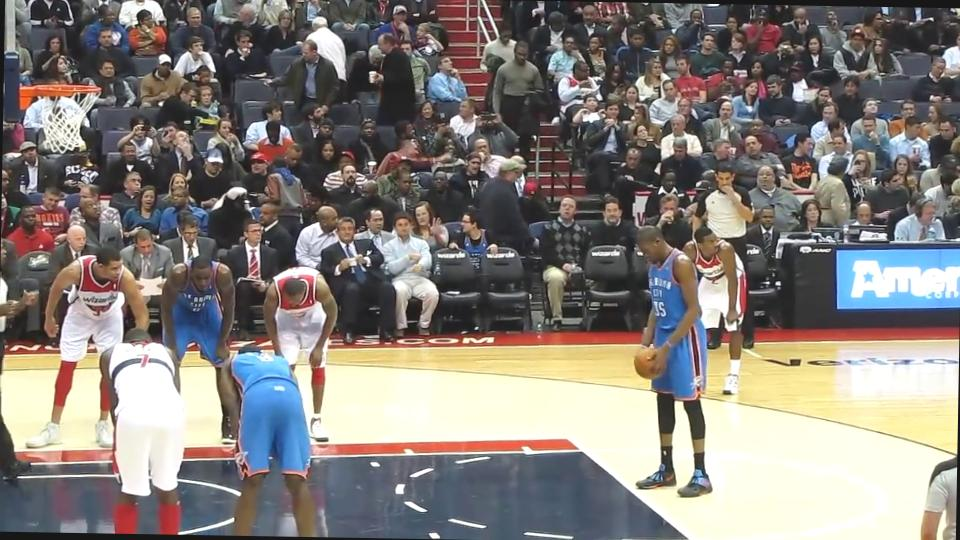hoop: (15, 80, 103, 101)
